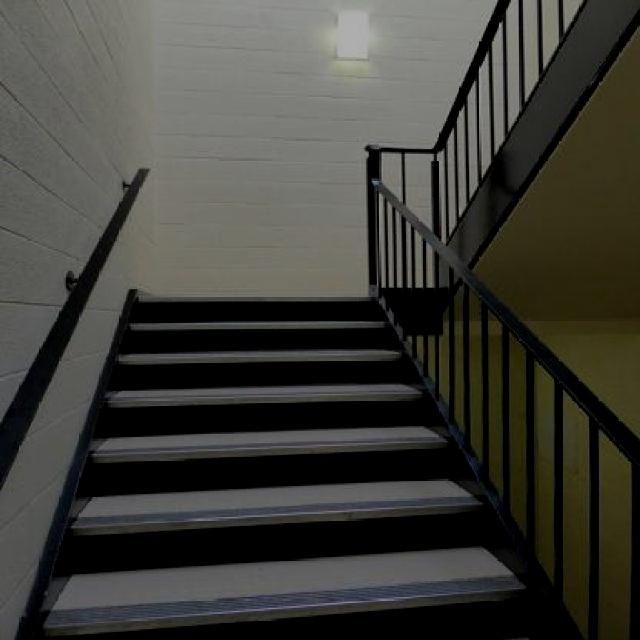stair: (112, 138, 566, 640)
